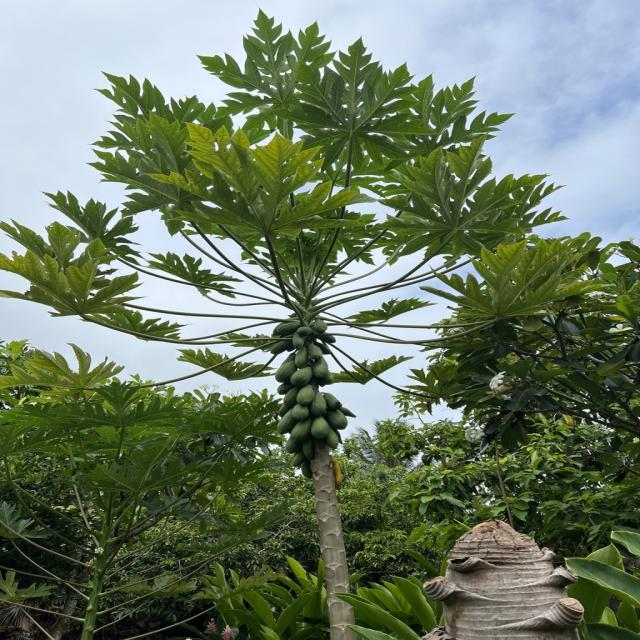Papaya-Tree: (0, 11, 530, 640)
